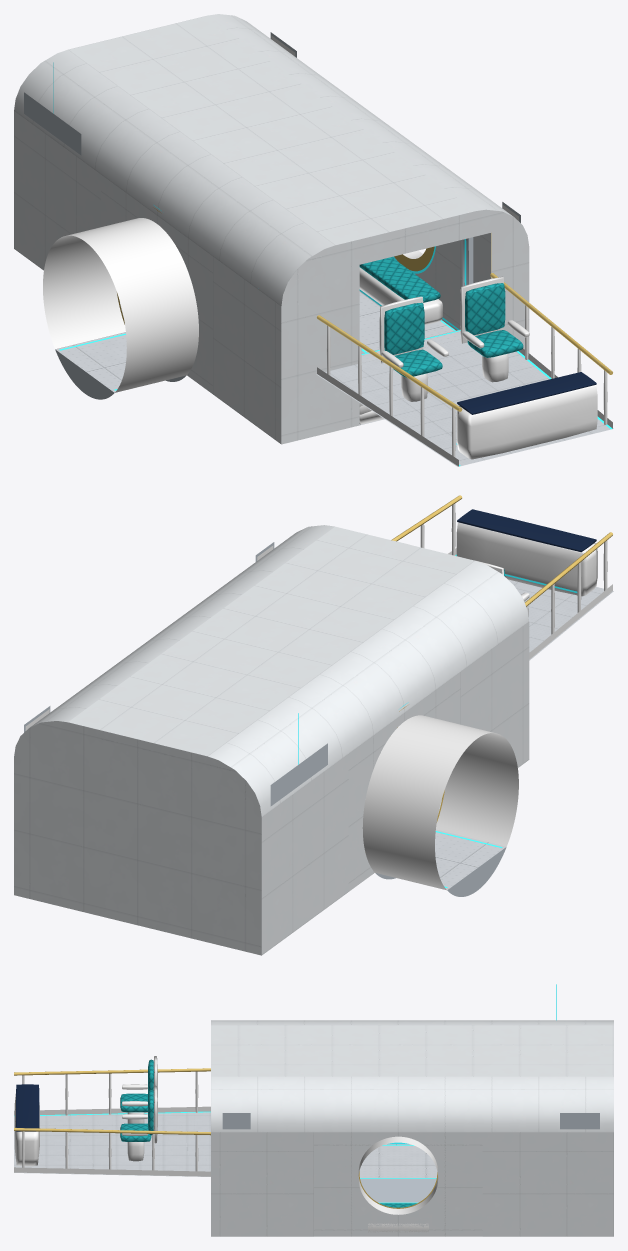
File: starpod_interior_v6.glb
3 views of the same model, one above another, from view 1: azimuth 30°, elevation 25°; view 2: azimuth 150°, elevation 25°; view 3: azimuth 270°, elevation 25° (orthographic). The views are drawn at different scales.
Size of the model in its own units: 6.24 by 4.2 by 12.8.
Materials: 10 (10 with a texture image).
